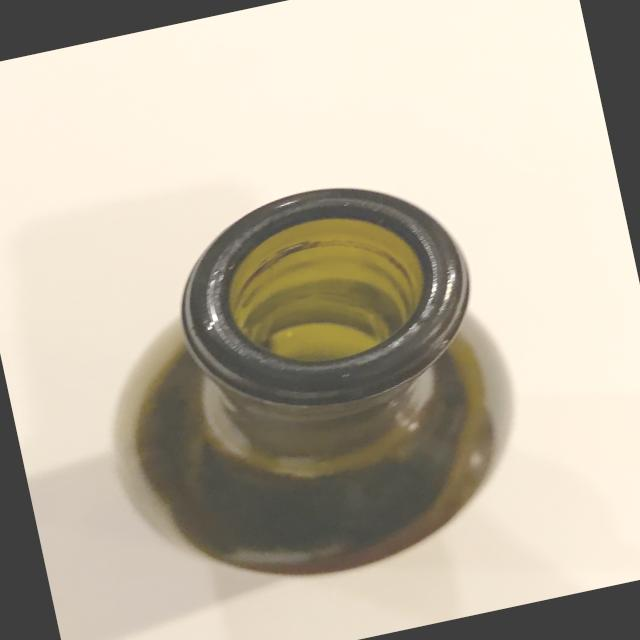Glass: (0, 143, 561, 640)
